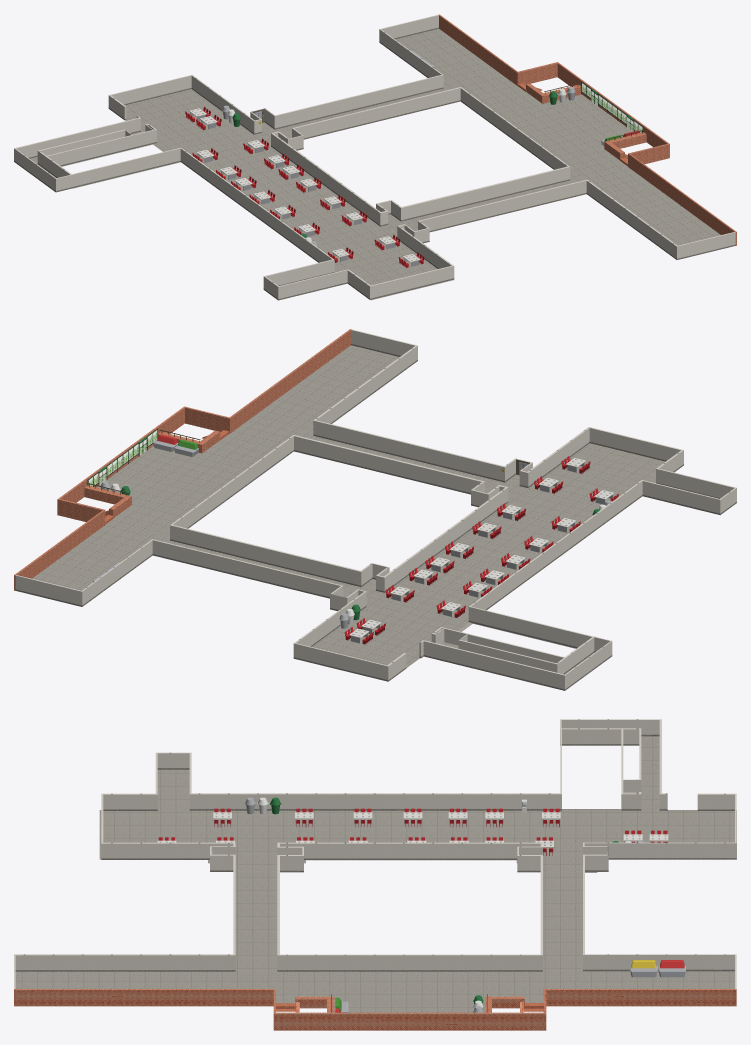
Rendered from sotano1.glb.
3 renders of one model, top to bottom at view 1: azimuth 30°, elevation 25°; view 2: azimuth 150°, elevation 25°; view 3: azimuth 270°, elevation 25°, orthographic. The views are drawn at different scales.
Parts seen in each view (by area): view 1: Plane_0, Cube_1, Cube011_1, Cube_2, Cube001_1, Cube002_1, m_2, Plane_2, m_4, m_0; view 2: Plane_0, Cube_1, Cube011_1, Cube_2, Cube001_1, Cube002_1, m_2, m_0 (×2), Plane_2, m_5; view 3: Plane_0, Cube_1, Cube_2, Cube011_1, Cube001_1, m_0 (×2), m_2, Cube002_1, Plane_2.
Part boxes in pixels (<box>): Plane_0: <box>30,28,720,300</box>; Cube_1: <box>108,15,735,300</box>; Cube011_1: <box>271,87,570,226</box>; Cube_2: <box>438,14,736,245</box>; Cube001_1: <box>37,123,180,188</box>; Cube002_1: <box>14,115,140,192</box>; m_2: <box>189,108,420,261</box>; Plane_2: <box>526,83,646,160</box>; m_4: <box>190,113,419,266</box>; m_0: <box>582,83,642,132</box>; Plane_0: <box>32,345,665,681</box>; Cube_1: <box>15,329,736,681</box>; Cube011_1: <box>170,435,508,592</box>; Cube_2: <box>14,329,351,590</box>; Cube001_1: <box>431,606,594,674</box>; Cube002_1: <box>419,636,612,690</box>; m_2: <box>349,458,613,637</box>; m_0 (×2): <box>88,430,611,628</box>; Plane_2: <box>84,430,220,517</box>; m_5: <box>350,463,612,643</box>; Plane_0: <box>15,736,736,1012</box>; Cube_1: <box>14,752,736,988</box>; Cube_2: <box>14,989,736,1030</box>; Cube011_1: <box>277,842,542,971</box>; Cube001_1: <box>560,728,641,810</box>; m_0 (×2): <box>158,797,685,1012</box>; m_2: <box>157,812,668,846</box>; Cube002_1: <box>560,719,667,810</box>; Plane_2: <box>295,996,524,1012</box>.
Size of the model in its own units: 72.44 by 1.96 by 75.2.
120 materials, 23 textured.
